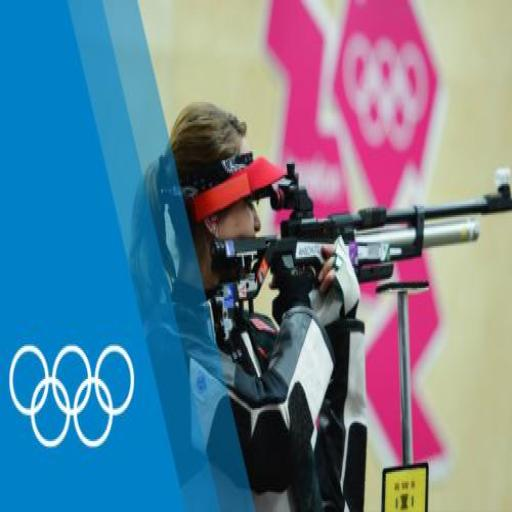shooting: (128, 98, 370, 510)
